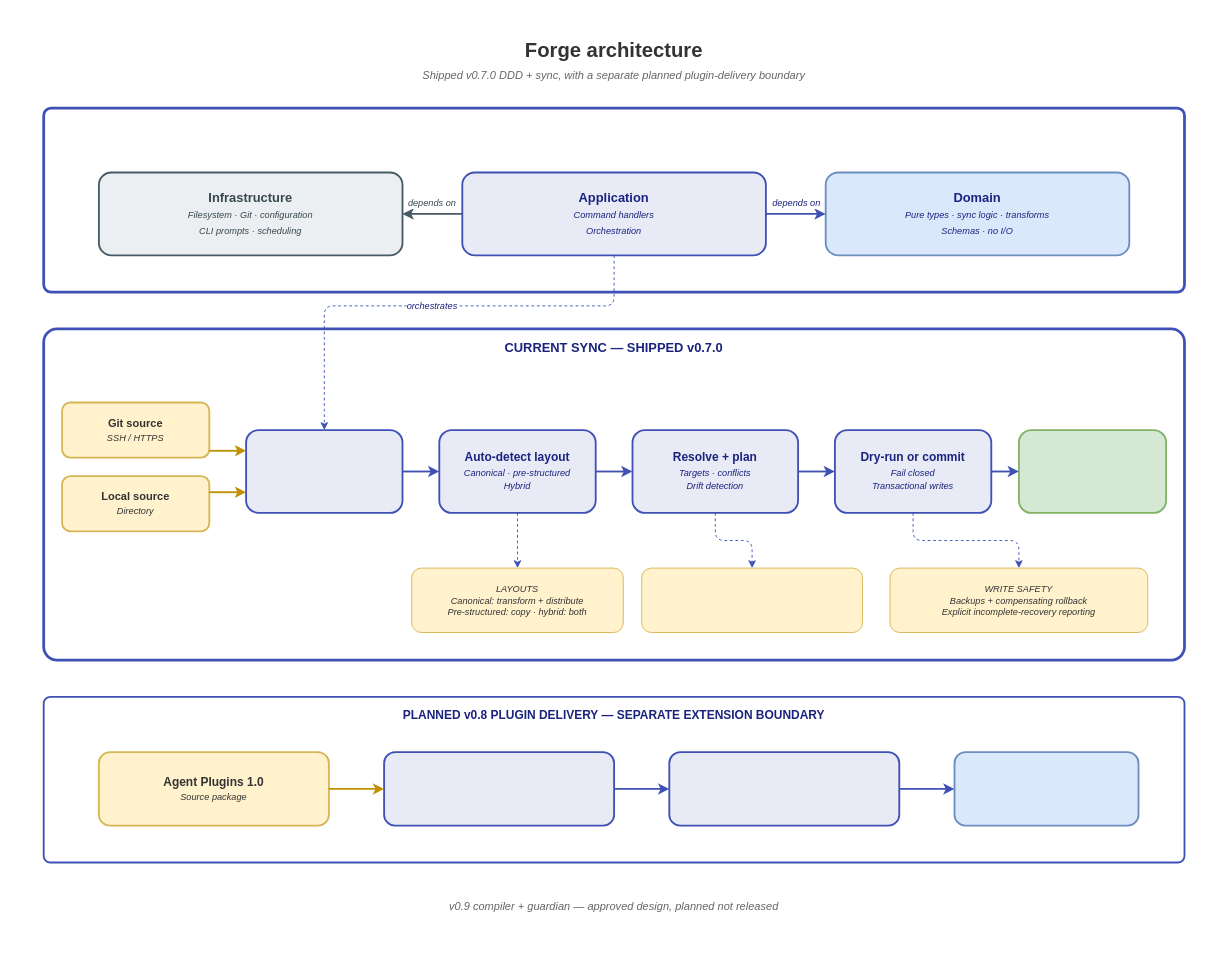
This 1227x970 diagram has some shape labels left out. The box of each missing label's shape, as (x1, y1, x2, y2) in pixels:
Coding harness targets + sync report Harness files State + backups: (1018, 429, 1167, 513)
Emit + lock Harness output Hashes + variants: (668, 751, 900, 826)
Fetch sources Parallel acquisition: (245, 429, 403, 513)
FORGE CLI v0.7.0 — TYPESCRIPT + BUN · DEPENDENCY DIRECTION: (42, 106, 1185, 293)
Native delivery Droid + Claude Code plugin systems: (953, 751, 1139, 826)
PLAN SHA-256 desired / state / filesystem Creates · updates · deletes · drift: (641, 567, 862, 632)
Validate + resolve Package checks Local / pinned Git: (383, 751, 615, 826)
